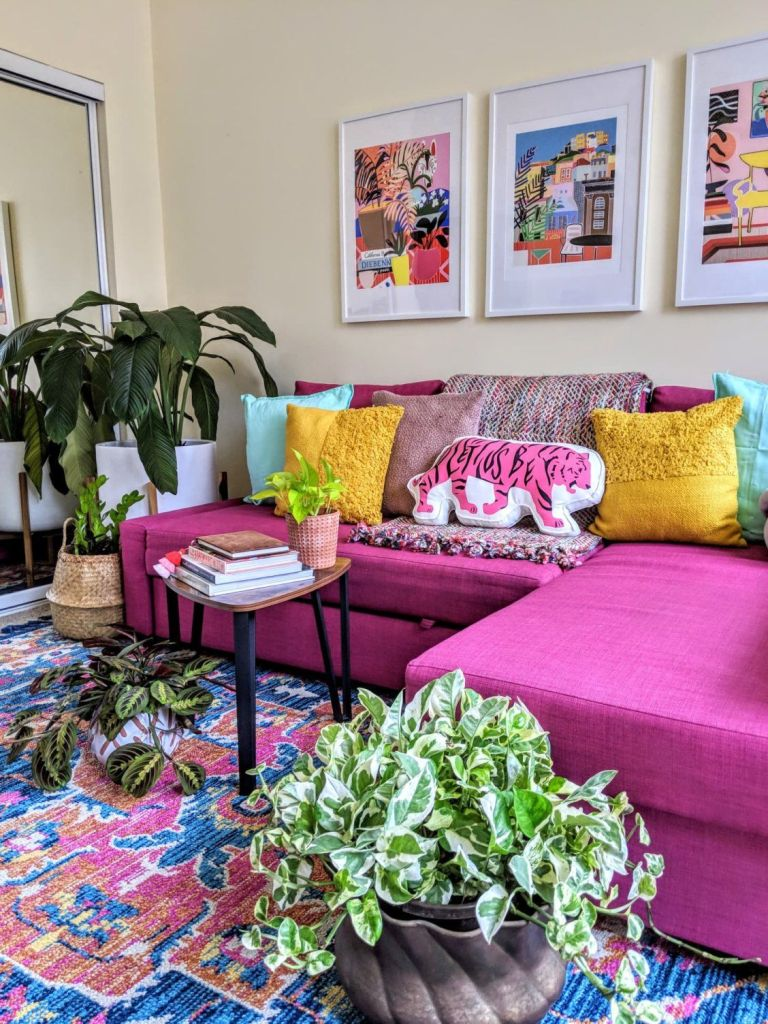biru: (243, 394, 289, 466)
kuning: (600, 411, 739, 552), (290, 407, 391, 470)
ungu: (545, 574, 768, 771)
